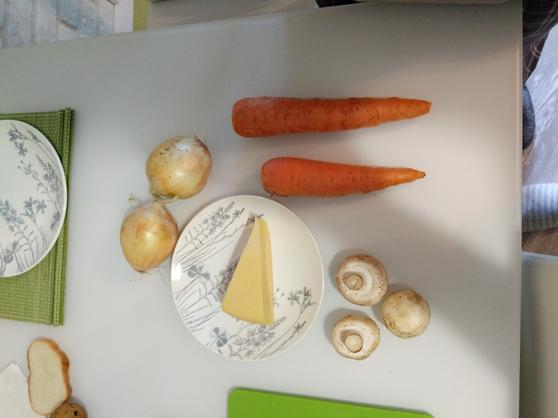carrot: (230, 90, 438, 139), (259, 153, 429, 202)
champignon: (332, 251, 387, 306), (326, 309, 384, 359), (384, 287, 438, 339)
cheese: (218, 212, 284, 324)
onion: (147, 130, 217, 203), (118, 200, 181, 279)
white_bread: (21, 336, 72, 412)
